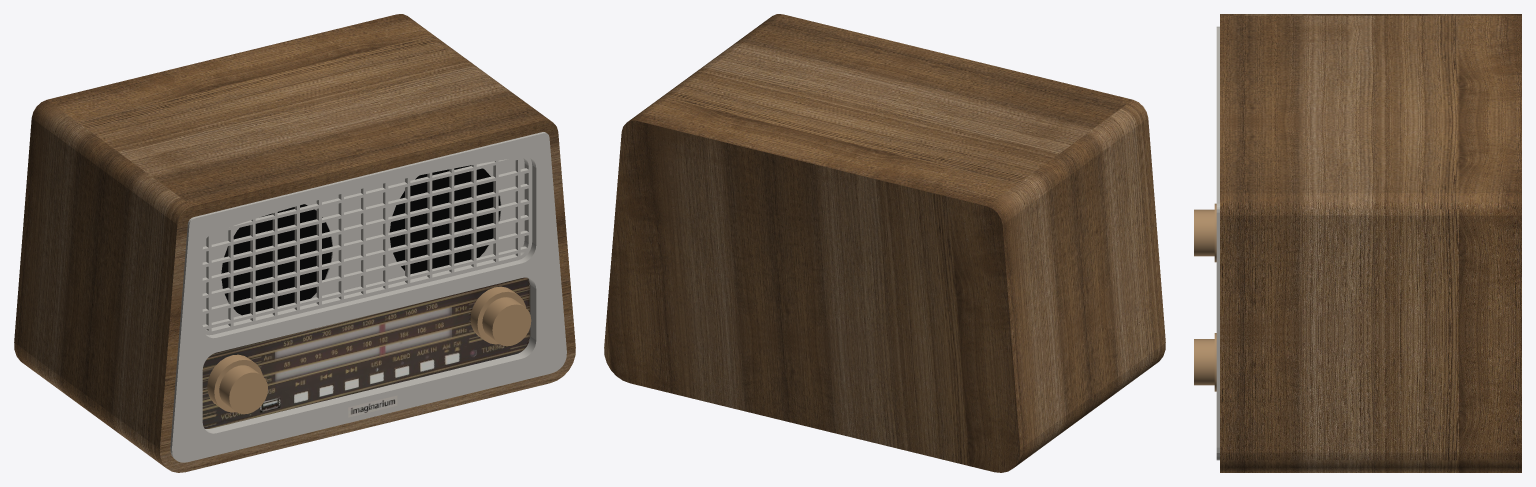
File: radio.glb
3 views of the same model, side by side, from view 1: azimuth 30°, elevation 25°; view 2: azimuth 150°, elevation 25°; view 3: azimuth 270°, elevation 25° (orthographic). The views are drawn at different scales.
Visible parts, largest first — view 1: Component#2, Component#3 (×7), Component#6 (×2); view 2: Component#2; view 3: Component#2, Component#6 (×2).
Part boxes in pixels (left/top/right/bottom): Component#2: left=14, top=14, right=575, bottom=472; Component#3 (×7): left=202, top=157, right=528, bottom=329; Component#6 (×2): left=207, top=286, right=531, bottom=414; Component#2: left=604, top=14, right=1165, bottom=472; Component#2: left=1216, top=14, right=1521, bottom=472; Component#6 (×2): left=1194, top=203, right=1216, bottom=391.
Size of the model in its own units: 0.2967 by 0.18 by 0.1954.
5 materials, 2 textured.
